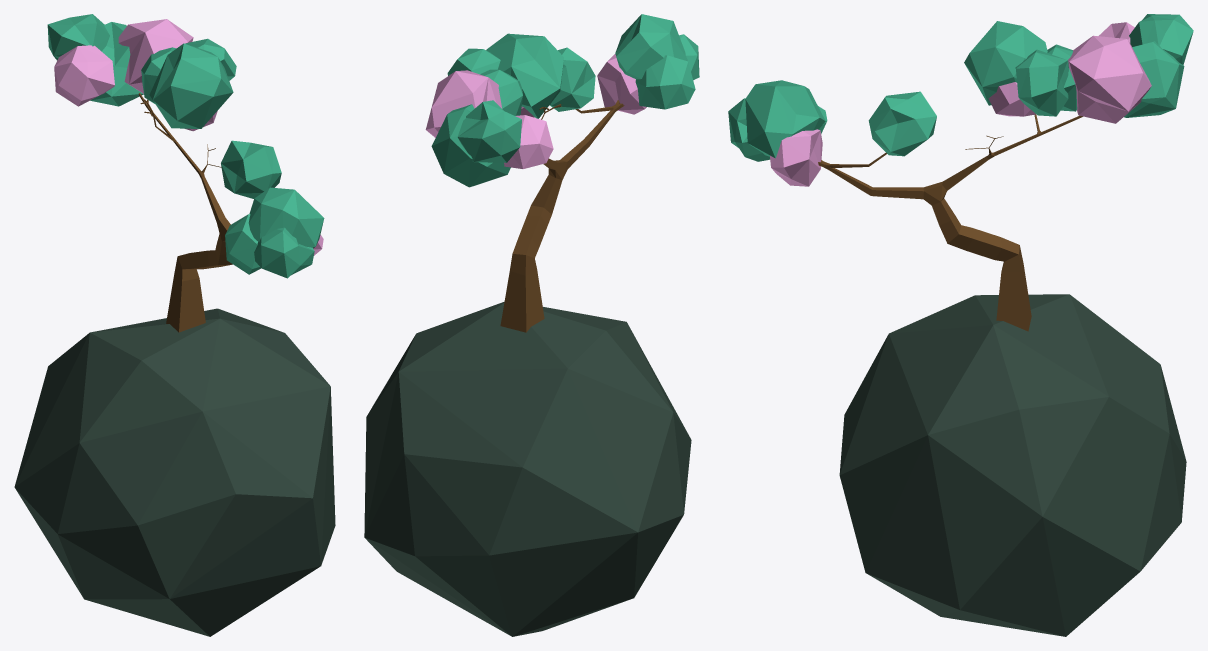
File: Tree.glb
3 views of the same model, side by side, from view 1: azimuth 30°, elevation 25°; view 2: azimuth 150°, elevation 25°; view 3: azimuth 270°, elevation 25° (orthographic). The views are drawn at different scales.
Visible parts, largest first — view 1: Icosphere.013, Icosphere.015, Cube, Icosphere.012, Icosphere.002, Icosphere.003, Icosphere.014, Icosphere.005, Icosphere.001, Icosphere, Icosphere.004, Icosphere.011 (+1 smaller); view 2: Icosphere.013, Cube, Icosphere.015, Icosphere.001, Icosphere.012, Icosphere, Icosphere.014, Icosphere.004, Icosphere.003, Icosphere.002, Icosphere.006, Icosphere.011 (+2 smaller); view 3: Icosphere.013, Cube, Icosphere.014, Icosphere.012, Icosphere.015, Icosphere.003, Icosphere.010, Icosphere, Icosphere.006, Icosphere.001, Icosphere.005, Icosphere.009 (+1 smaller).
Part boxes in pixels (<box>): Icosphere.013: <box>14,308,335,636</box>; Icosphere.015: <box>149,43,233,128</box>; Cube: <box>138,93,232,332</box>; Icosphere.012: <box>248,187,324,248</box>; Icosphere.002: <box>54,45,114,106</box>; Icosphere.003: <box>221,140,281,198</box>; Icosphere.014: <box>118,19,193,93</box>; Icosphere.005: <box>254,227,314,278</box>; Icosphere.001: <box>47,14,109,60</box>; Icosphere: <box>90,22,143,106</box>; Icosphere.004: <box>225,214,261,274</box>; Icosphere.011: <box>141,47,176,103</box>; Icosphere.013: <box>364,301,691,636</box>; Cube: <box>500,100,624,332</box>; Icosphere.015: <box>486,33,563,118</box>; Icosphere.001: <box>457,100,521,162</box>; Icosphere.012: <box>615,14,687,79</box>; Icosphere: <box>431,104,510,187</box>; Icosphere.014: <box>425,70,502,137</box>; Icosphere.004: <box>635,55,695,109</box>; Icosphere.003: <box>549,47,595,111</box>; Icosphere.002: <box>504,115,553,168</box>; Icosphere.006: <box>597,54,646,114</box>; Icosphere.011: <box>480,69,522,115</box>; Icosphere.013: <box>839,294,1186,636</box>; Cube: <box>818,114,1082,331</box>; Icosphere.014: <box>1068,35,1151,123</box>; Icosphere.012: <box>745,80,825,158</box>; Icosphere.015: <box>964,21,1047,105</box>; Icosphere.003: <box>868,91,936,156</box>; Icosphere.010: <box>1015,49,1068,116</box>; Icosphere: <box>1124,41,1184,117</box>; Icosphere.006: <box>770,129,822,186</box>; Icosphere.001: <box>1129,14,1193,64</box>; Icosphere.005: <box>728,98,770,161</box>; Icosphere.009: <box>988,82,1035,116</box>.
Size of the model in its own units: 9.75 by 18.72 by 13.12.
